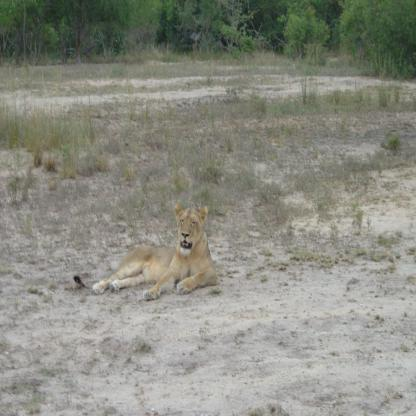lion: (171, 199, 212, 259)
